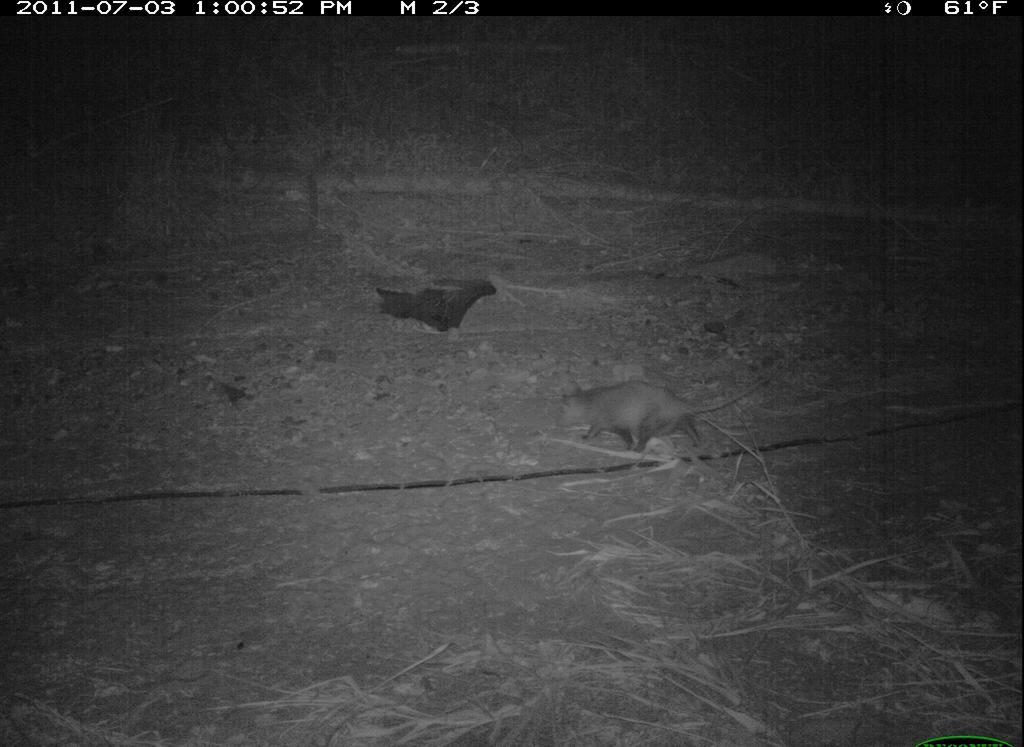opossum: (539, 351, 785, 474)
